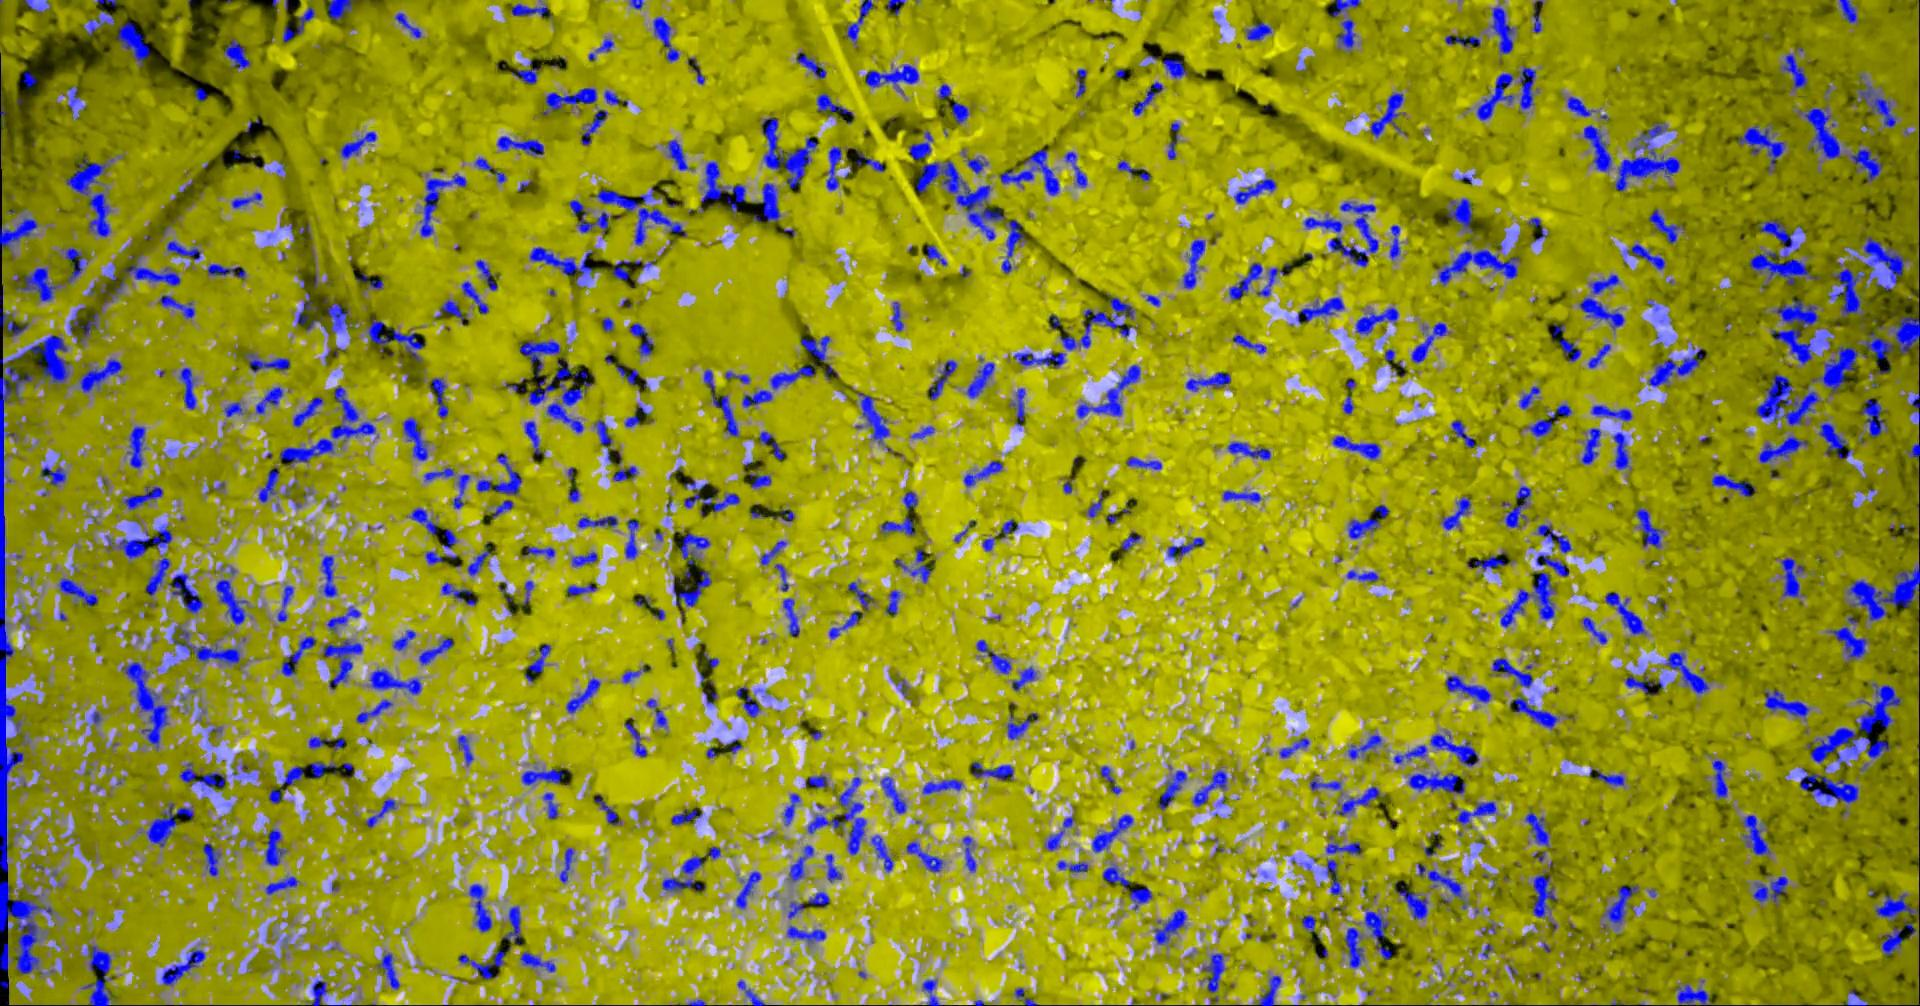ant: (596, 189, 684, 245), (1059, 296, 1133, 351), (100, 254, 180, 304), (1076, 365, 1139, 418), (1500, 572, 1554, 627), (419, 173, 466, 236), (999, 149, 1058, 196), (1811, 345, 1865, 394), (171, 626, 239, 664), (367, 318, 425, 361), (1578, 274, 1624, 329), (530, 246, 592, 285), (1737, 124, 1785, 171), (703, 370, 738, 436), (1648, 345, 1702, 386), (145, 801, 193, 846), (1798, 107, 1840, 158), (1829, 268, 1870, 319), (80, 945, 116, 1005), (1799, 767, 1858, 803), (1863, 236, 1905, 285), (323, 639, 362, 688), (1665, 652, 1709, 694), (476, 453, 521, 494), (117, 525, 171, 558), (1476, 72, 1512, 119), (683, 480, 739, 511), (1605, 592, 1646, 634), (1509, 695, 1558, 729), (1430, 730, 1478, 765), (857, 391, 889, 443), (1858, 84, 1896, 127), (161, 948, 204, 984), (1091, 814, 1131, 852), (541, 86, 596, 114), (1417, 862, 1462, 897), (1369, 91, 1402, 137), (1525, 403, 1571, 436), (13, 267, 56, 301), (79, 358, 122, 392), (662, 856, 705, 890), (116, 22, 149, 66), (215, 579, 248, 624), (1764, 688, 1810, 720), (1411, 323, 1448, 362), (568, 199, 611, 232), (1759, 434, 1807, 464), (268, 765, 305, 803), (519, 340, 559, 376), (168, 573, 202, 614), (1001, 220, 1026, 273), (673, 570, 711, 606), (179, 762, 225, 791), (458, 950, 504, 979), (368, 668, 420, 694), (1583, 124, 1611, 171), (1827, 626, 1865, 661), (281, 636, 315, 674), (1603, 885, 1637, 923), (893, 549, 932, 582), (1335, 786, 1379, 815), (1364, 911, 1390, 959), (1444, 674, 1490, 702), (1228, 262, 1262, 298), (1394, 882, 1427, 920), (863, 64, 918, 86), (1192, 770, 1227, 805), (844, 0, 872, 43), (1408, 771, 1464, 793), (1876, 893, 1919, 921), (1492, 657, 1531, 687), (1297, 297, 1343, 323), (1256, 262, 1290, 296), (0, 295, 28, 337), (966, 356, 994, 398), (0, 217, 37, 249), (1818, 422, 1850, 459), (1332, 434, 1380, 459), (770, 363, 815, 389), (905, 841, 943, 871), (1355, 307, 1398, 334), (1490, 6, 1514, 53), (1648, 210, 1683, 243), (977, 639, 1010, 673), (566, 678, 599, 713), (282, 6, 314, 42), (653, 17, 678, 61), (1531, 873, 1557, 917), (1503, 485, 1530, 527), (469, 883, 491, 931), (700, 161, 728, 201), (752, 183, 780, 222), (1891, 315, 1919, 354), (928, 359, 956, 399), (1634, 508, 1662, 547), (1158, 770, 1186, 809), (1742, 815, 1770, 855), (1154, 909, 1186, 944), (1182, 239, 1204, 288), (1233, 178, 1275, 203), (58, 578, 97, 606), (963, 460, 1002, 486), (1131, 81, 1162, 116), (403, 417, 427, 460), (1534, 525, 1571, 553), (1625, 243, 1663, 269), (1850, 149, 1882, 180), (1863, 329, 1892, 363), (1860, 398, 1886, 437), (524, 643, 550, 682), (418, 636, 453, 664), (1441, 495, 1470, 528), (1710, 474, 1755, 495), (1445, 198, 1473, 232), (828, 610, 862, 638), (243, 352, 290, 372), (1780, 558, 1804, 597), (580, 109, 607, 145), (880, 776, 905, 813), (1185, 371, 1230, 391), (1045, 815, 1073, 848), (297, 292, 321, 330), (789, 843, 813, 882), (340, 131, 375, 158), (62, 246, 88, 282), (123, 486, 163, 509), (1455, 801, 1495, 824), (1201, 953, 1224, 992), (497, 136, 543, 155), (292, 396, 323, 426), (364, 798, 395, 827), (817, 91, 853, 116), (145, 558, 169, 594), (735, 871, 759, 908), (681, 532, 709, 564), (326, 606, 361, 631), (1347, 734, 1382, 760), (1752, 876, 1787, 902), (1013, 351, 1065, 367), (159, 293, 194, 318), (521, 767, 569, 785), (406, 507, 437, 535), (461, 281, 488, 312), (441, 582, 477, 605), (356, 699, 392, 721), (264, 828, 287, 865), (1780, 55, 1806, 88), (377, 951, 399, 989), (223, 38, 250, 69), (1525, 810, 1548, 846), (594, 794, 620, 826), (971, 761, 1013, 780), (1167, 537, 1204, 559), (870, 835, 891, 871), (1225, 441, 1270, 459), (623, 721, 646, 756), (800, 335, 829, 362), (84, 10, 114, 36), (1064, 151, 1086, 187), (667, 138, 691, 170), (474, 158, 505, 182), (629, 323, 653, 354), (467, 542, 490, 575), (1535, 553, 1568, 575), (428, 377, 447, 417), (502, 904, 521, 944), (1343, 927, 1363, 967), (127, 426, 145, 467), (796, 52, 825, 77), (328, 302, 353, 332), (436, 298, 466, 323), (258, 466, 278, 502), (519, 951, 555, 972), (1519, 66, 1535, 109), (594, 419, 611, 462), (255, 386, 282, 413), (394, 11, 422, 37), (758, 431, 783, 459), (847, 580, 872, 608), (737, 981, 766, 1005), (786, 925, 825, 942), (1676, 984, 1710, 1005), (179, 367, 196, 409), (1347, 517, 1379, 539), (825, 146, 841, 191), (1581, 428, 1600, 464), (1611, 431, 1629, 469), (908, 131, 932, 159), (1117, 160, 1150, 180), (1257, 976, 1280, 1005), (475, 259, 497, 290), (76, 311, 98, 342), (1279, 737, 1309, 758), (166, 240, 201, 259), (759, 540, 786, 564), (1451, 419, 1474, 447), (1879, 927, 1902, 955), (276, 586, 293, 621), (1589, 768, 1624, 786), (207, 263, 245, 279), (1232, 334, 1265, 353), (782, 598, 799, 636), (1393, 744, 1426, 763), (1590, 405, 1630, 420), (321, 555, 337, 596), (1582, 617, 1606, 643), (1011, 666, 1036, 690), (451, 474, 469, 508), (881, 517, 916, 535), (1102, 866, 1129, 889), (1710, 760, 1727, 796), (726, 183, 745, 215), (1100, 765, 1120, 794), (1324, 859, 1341, 894), (265, 876, 298, 894), (610, 260, 640, 279), (1474, 551, 1505, 570), (1006, 714, 1029, 739), (510, 3, 551, 17), (922, 779, 963, 793), (202, 843, 220, 875), (1336, 19, 1355, 48), (1587, 343, 1610, 367), (623, 518, 637, 558), (1327, 0, 1360, 17), (328, 0, 354, 20), (1384, 349, 1404, 376), (1567, 97, 1595, 116), (856, 152, 884, 171), (646, 699, 665, 727), (1128, 887, 1150, 909), (742, 389, 771, 406), (577, 514, 617, 527), (231, 192, 262, 208), (524, 420, 540, 453), (670, 808, 701, 824), (1625, 674, 1653, 692), (1558, 338, 1580, 361), (392, 629, 415, 650), (41, 465, 65, 485), (1162, 58, 1187, 77), (1011, 387, 1023, 426), (783, 793, 799, 824), (922, 979, 941, 1005), (510, 67, 540, 84), (559, 847, 573, 882), (963, 835, 975, 871), (1324, 841, 1361, 854), (924, 244, 946, 265), (356, 273, 383, 290), (1246, 22, 1271, 39), (622, 664, 648, 682), (457, 735, 472, 765), (1519, 386, 1539, 408), (615, 366, 637, 385), (1126, 456, 1161, 469), (1528, 217, 1545, 241), (825, 854, 841, 882), (1167, 122, 1178, 159), (1087, 492, 1103, 517), (310, 761, 335, 777), (1444, 34, 1479, 46), (688, 57, 703, 84), (542, 793, 557, 819), (310, 981, 326, 1005), (775, 563, 789, 591), (424, 467, 455, 480), (1222, 490, 1260, 500), (1120, 531, 1140, 550), (1057, 860, 1087, 873), (1839, 0, 1857, 22), (1015, 987, 1036, 1005), (743, 694, 759, 716), (566, 583, 596, 596), (603, 90, 627, 105), (612, 465, 636, 480), (571, 551, 596, 567), (491, 499, 512, 517), (951, 102, 968, 123), (808, 890, 829, 907), (885, 589, 899, 615), (1389, 225, 1399, 259), (891, 301, 903, 332), (523, 546, 554, 558), (1001, 520, 1018, 539), (1531, 0, 1542, 32), (724, 371, 749, 384), (1346, 570, 1378, 580), (968, 156, 987, 173), (1309, 779, 1340, 789), (748, 473, 770, 486), (498, 580, 512, 602), (787, 901, 804, 918), (223, 401, 243, 417), (910, 426, 933, 438), (902, 492, 917, 511), (1076, 69, 1086, 97), (24, 0, 48, 11), (522, 580, 533, 605), (309, 735, 330, 748), (805, 775, 827, 788), (886, 0, 904, 15), (596, 38, 613, 52), (724, 739, 742, 753), (69, 86, 79, 111), (443, 528, 456, 547), (1911, 391, 1919, 422), (1302, 915, 1316, 931), (22, 71, 36, 86), (0, 942, 8, 970), (425, 551, 442, 564), (937, 84, 950, 98), (194, 86, 207, 100), (1374, 504, 1388, 517), (982, 537, 996, 550), (623, 414, 639, 426), (705, 846, 720, 857), (1343, 394, 1352, 413), (1909, 443, 1919, 460), (703, 691, 716, 704), (602, 318, 613, 332), (780, 509, 794, 521), (568, 488, 579, 500), (629, 0, 643, 9)
